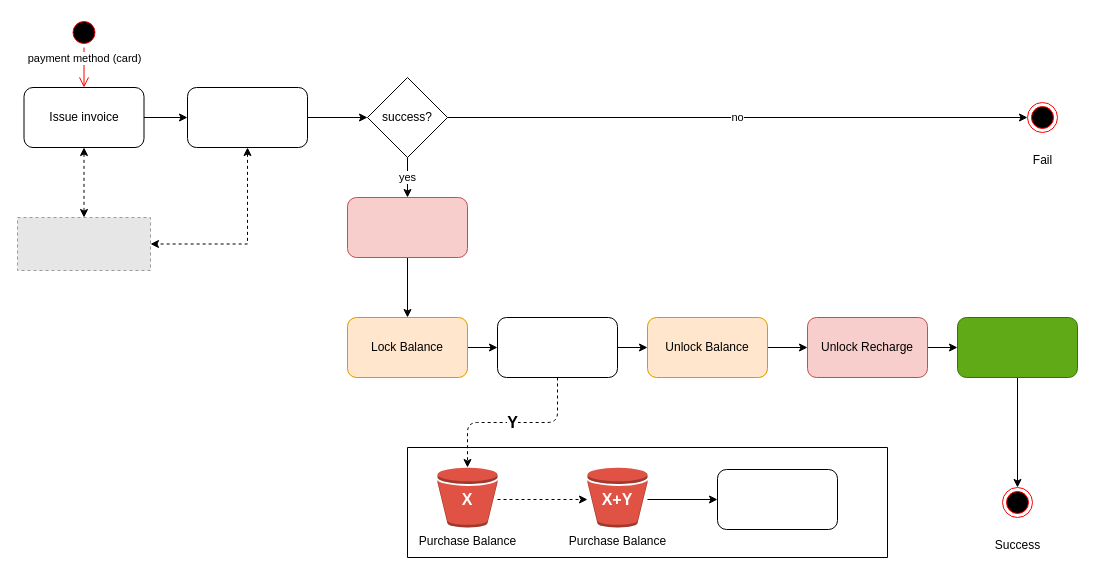
This 1095x575 diagram has some shape labels left out. Grey dashed boxes stand in for pictures. Here are the shapes that lost their labels. From the top down, the centre of each, then its label:
the point at 247,117: Pay Invoice
the point at 407,227: Lock Recharge
the point at 557,347: recharge
the point at 1017,347: Unblock AR
the point at 777,499: Set Expire in 1 year
